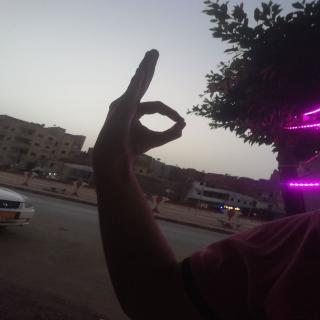Space: (91, 42, 196, 158)
